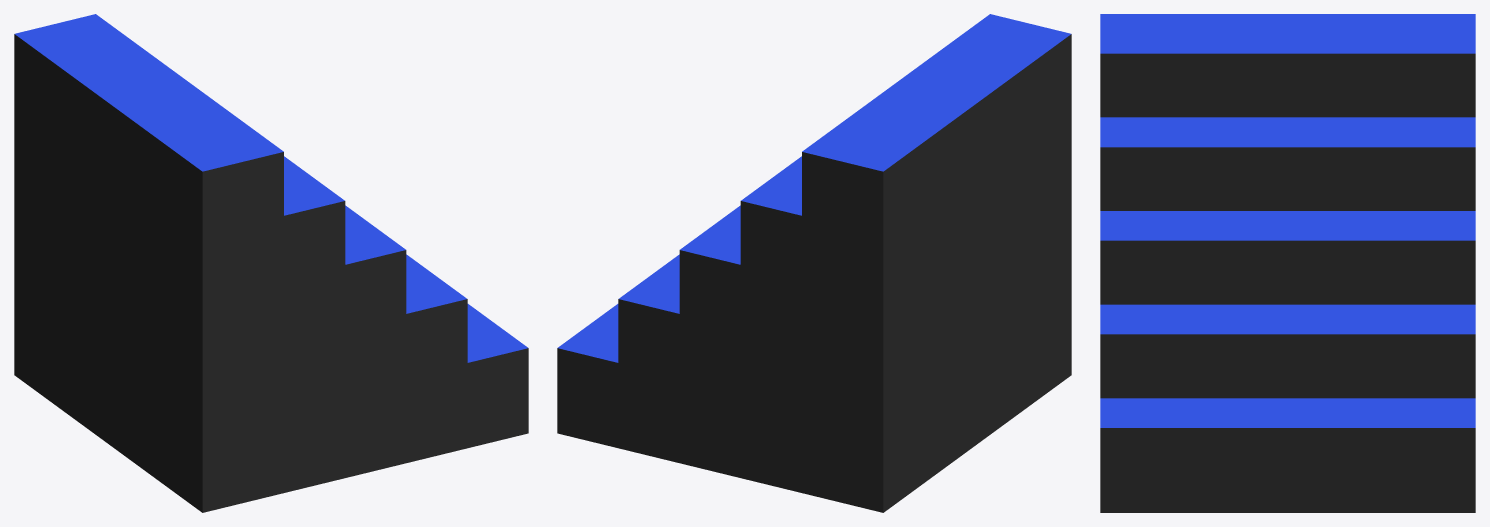
The model's file is stairs.fbx.
3 views of the same model, side by side, from view 1: azimuth 30°, elevation 25°; view 2: azimuth 150°, elevation 25°; view 3: azimuth 270°, elevation 25° (orthographic).
Visible parts, largest first — view 1: Stairs; view 2: Stairs; view 3: Stairs.
Boxes of the visible parts, x1,y1,x2,y2 form: Stairs: (14, 14, 528, 512); Stairs: (557, 14, 1071, 512); Stairs: (1100, 14, 1475, 512).
Bounding box in the file's own units: 2 × 2 × 2.
